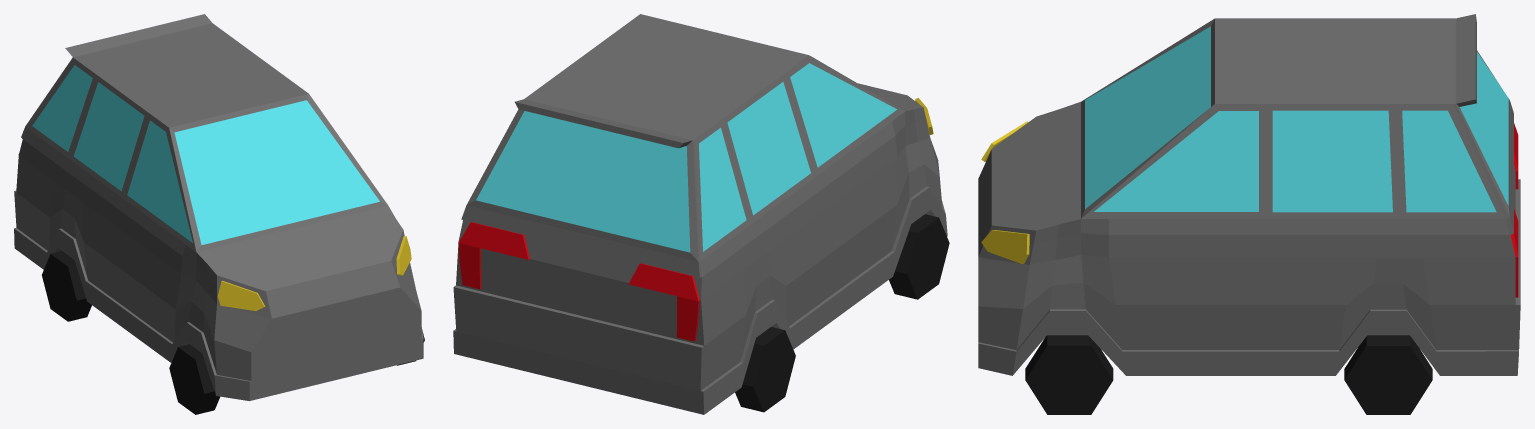
The model's file is NPCCars2.fbx.
The picture shows the model from 3 angles, left to right: view 1: azimuth 30°, elevation 25°; view 2: azimuth 150°, elevation 25°; view 3: azimuth 270°, elevation 25°; orthographic projection. The views are drawn at different scales.
Parts seen in each view (by area): view 1: Cube.006, Cylinder.004, Cylinder.005, Cube.007; view 2: Cube.006, Cube.008, Cylinder.004, Cylinder.005; view 3: Cube.006, Cylinder.005, Cylinder.004, Cube.007, Cube.008.
Part boxes in pixels (left/top/right/bottom): Cube.006: left=14, top=14, right=423, bottom=400; Cylinder.004: left=169, top=330, right=424, bottom=414; Cylinder.005: left=42, top=251, right=91, bottom=321; Cube.007: left=217, top=236, right=411, bottom=310; Cube.006: left=453, top=14, right=947, bottom=414; Cube.008: left=458, top=222, right=699, bottom=341; Cylinder.004: left=889, top=214, right=949, bottom=299; Cylinder.005: left=735, top=327, right=795, bottom=412; Cube.006: left=978, top=14, right=1520, bottom=375; Cylinder.005: left=1344, top=335, right=1432, bottom=414; Cylinder.004: left=1025, top=335, right=1113, bottom=414; Cube.007: left=981, top=121, right=1029, bottom=263; Cube.008: left=1510, top=123, right=1518, bottom=297.
Bounding box in the file's own units: 230 × 231 × 391.
